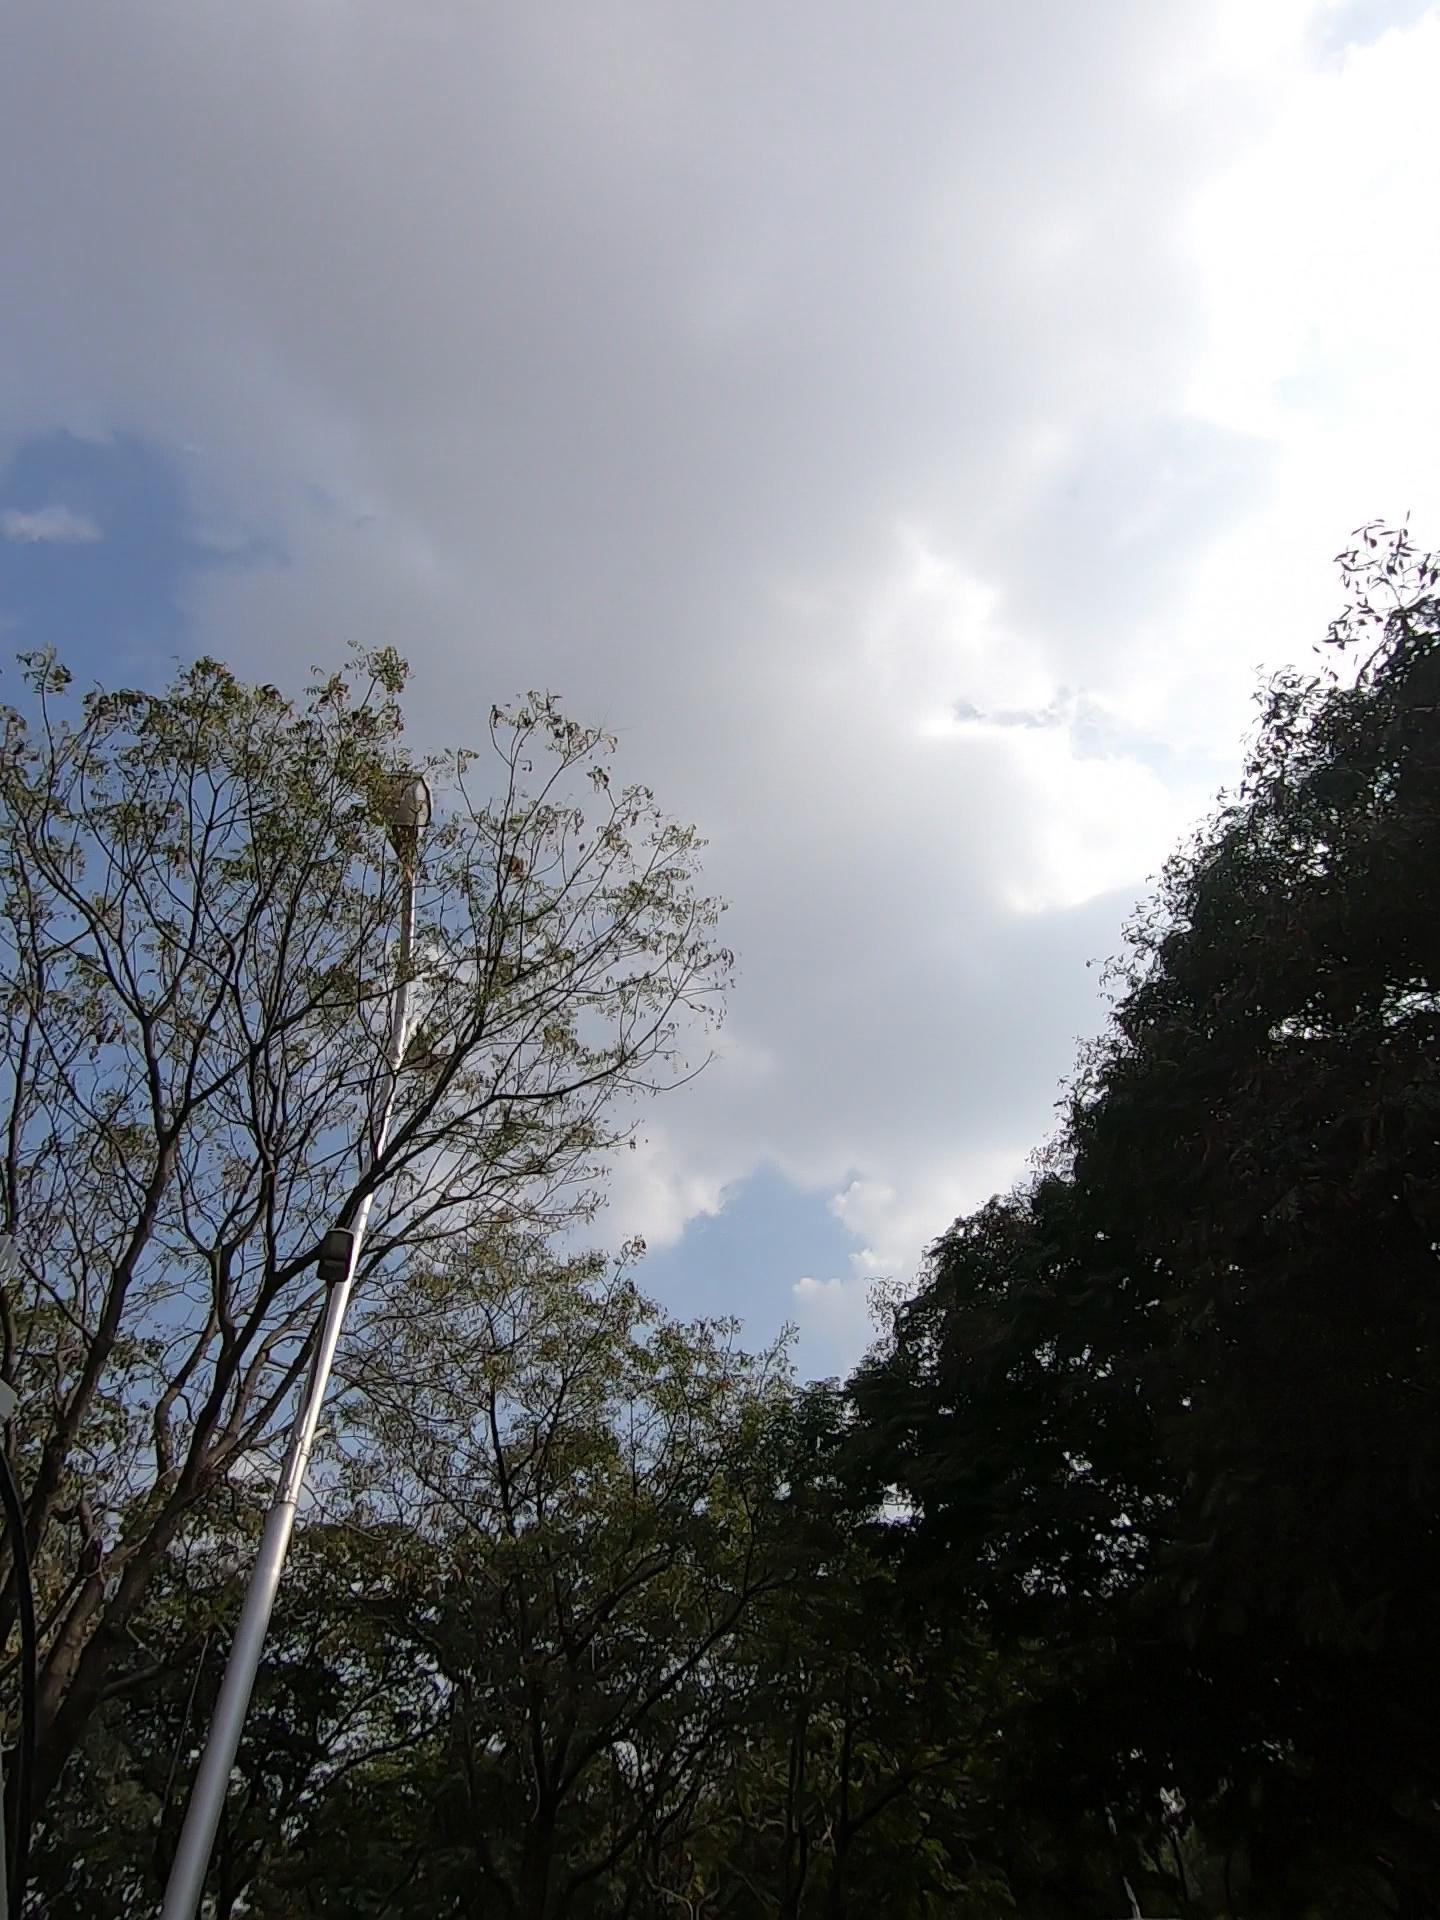off: (260, 756, 499, 1332)
